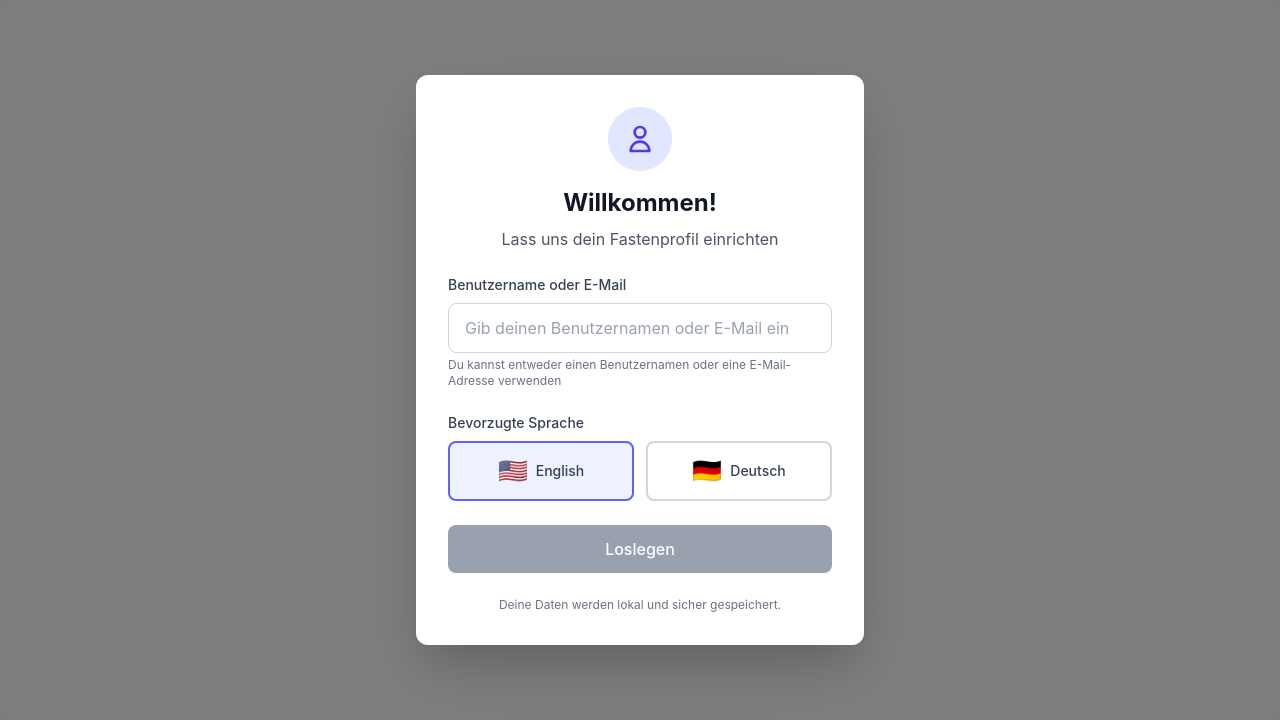
Test: UserSetup Component › Username Already Exists Scenario › should disable submit button while loading
In the field with id "identifier": (640, 328) [448,303,832,353], type "testuser"
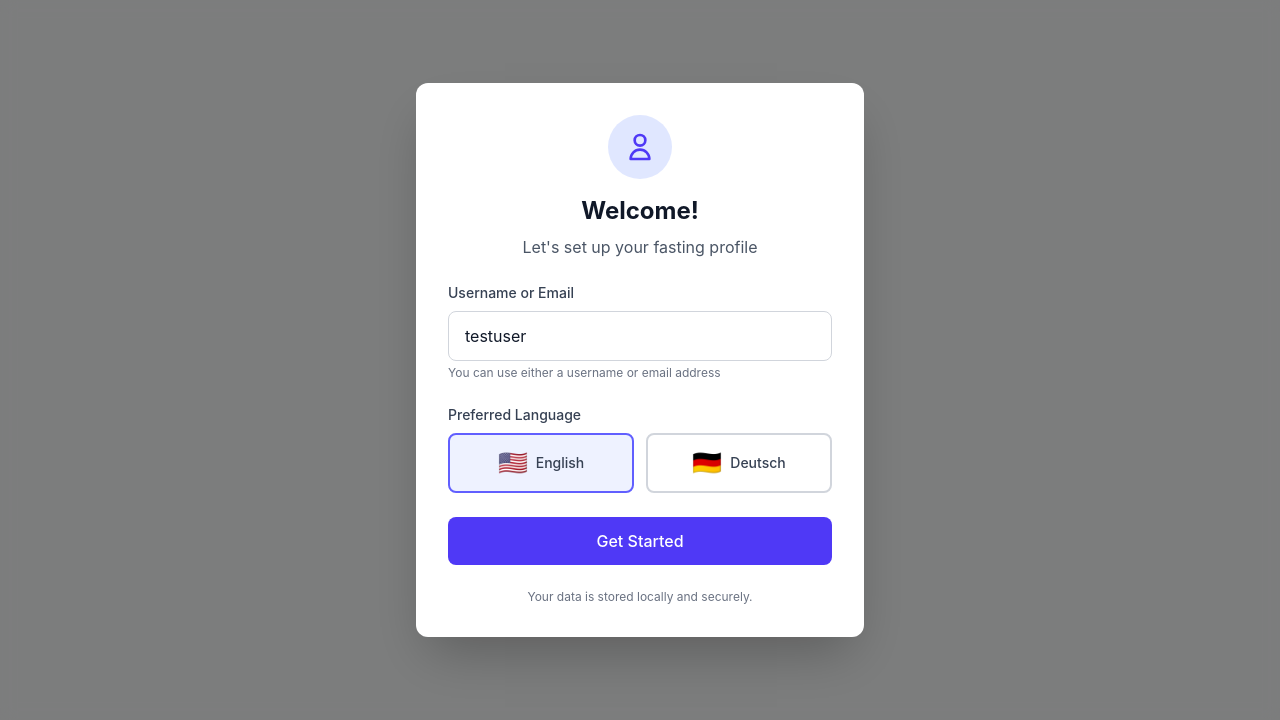
Check: the submit button is enabled, box [448,517,832,565]
// Submit the form
Submit the form, box [448,283,832,565]
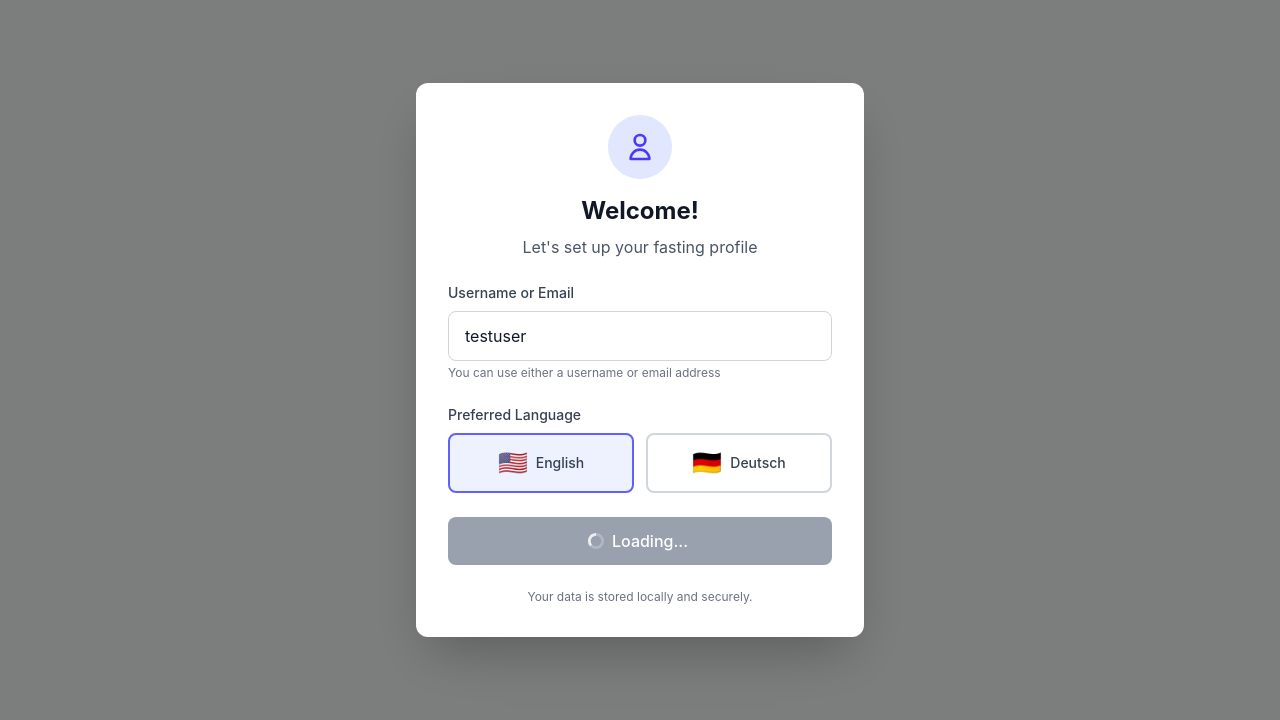
Check: the submit button is disabled, box [448,517,832,565]
Check: the text "Loading..." is shown, box [588,531,688,551]
